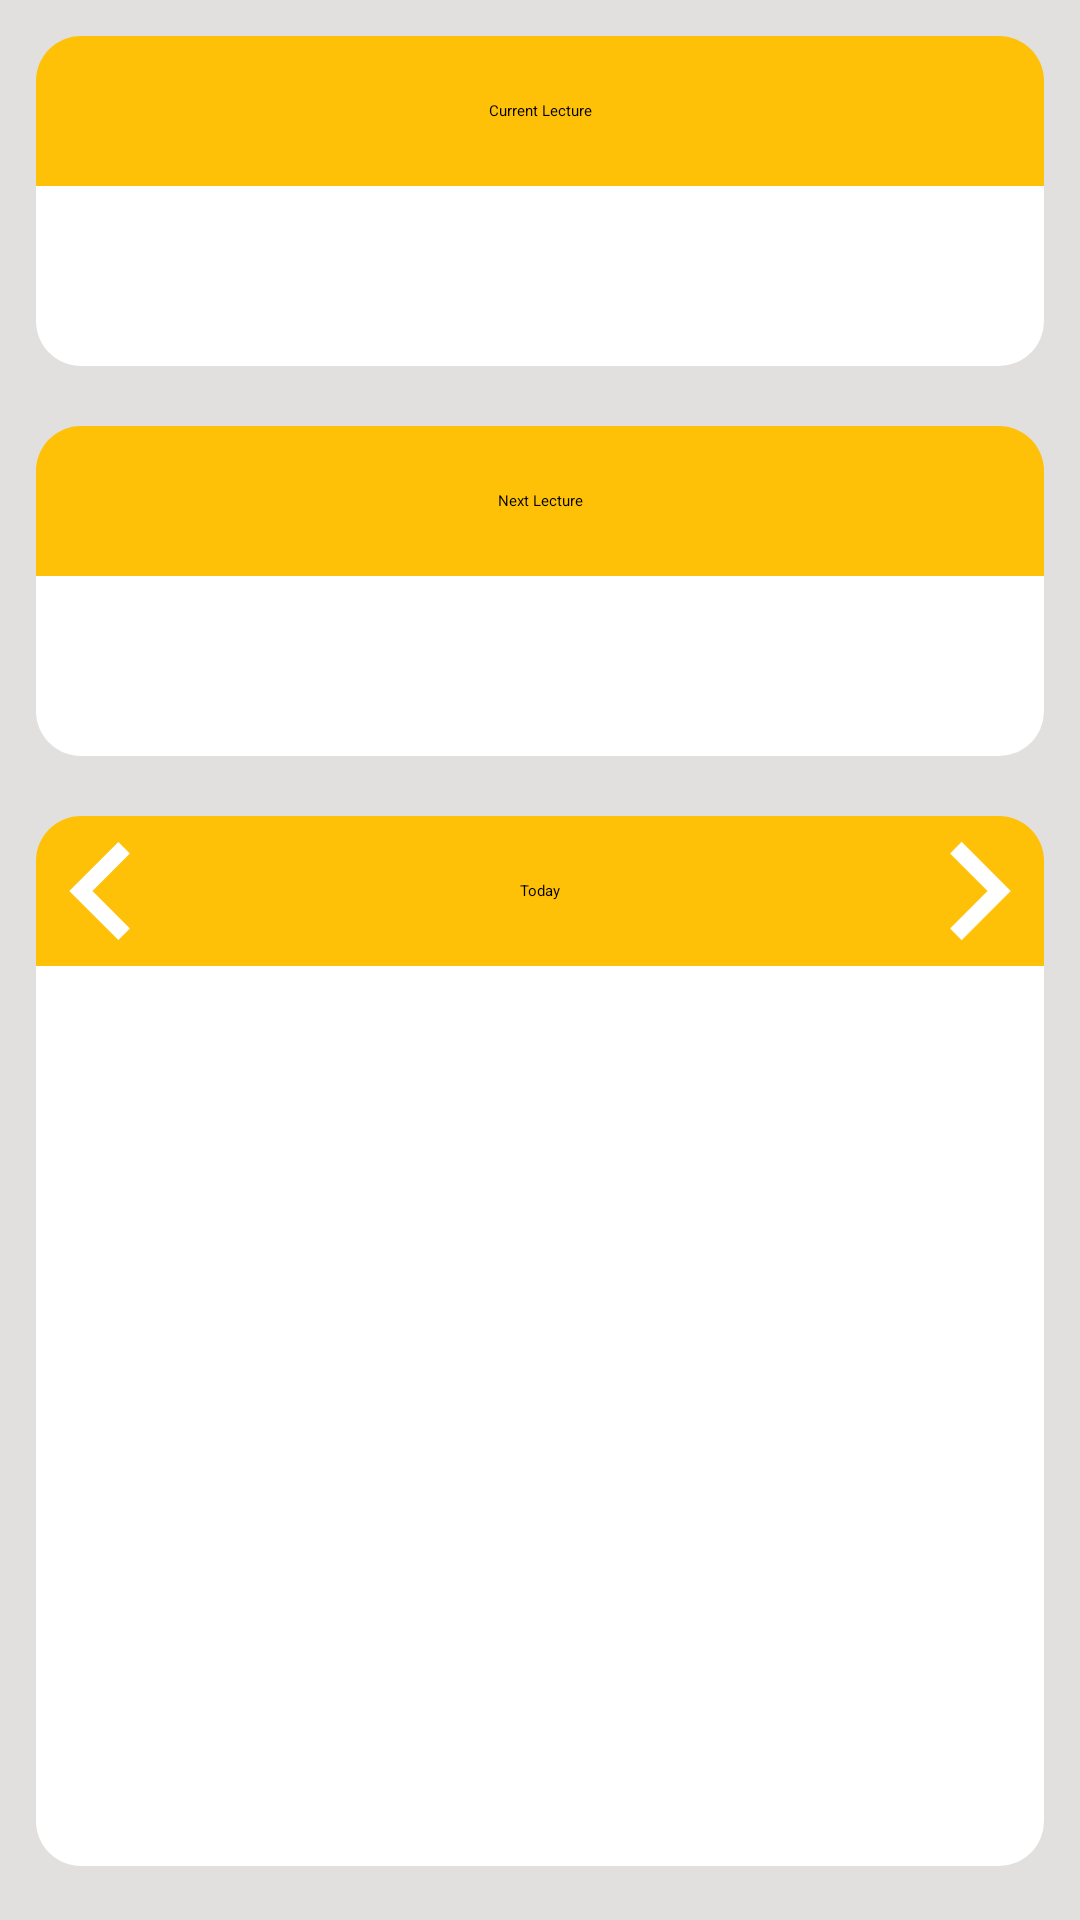

Screen size 1080 × 1920. Icon name, then its box in pixels as [x1=x1, y1=y1, x2=x2, y2=y2]:
next: [x1=950, y1=841, x2=1011, y2=941]
prev: [x1=69, y1=842, x2=130, y2=940]
